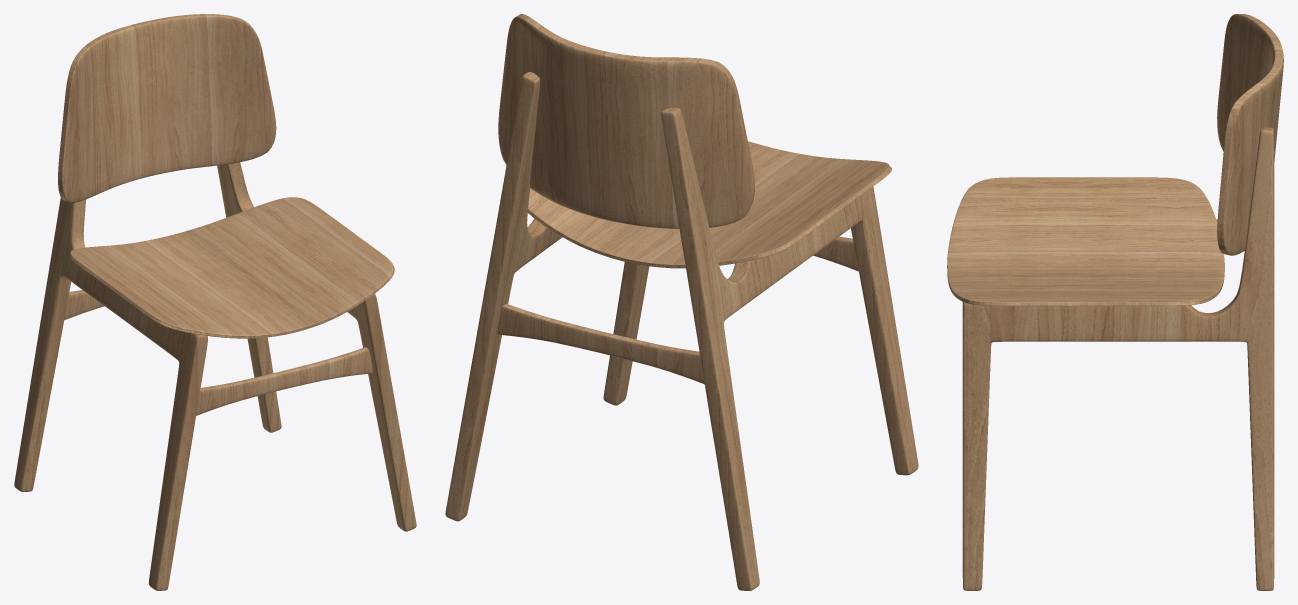
File: chair.glb
3 renders of one model, left to right at view 1: azimuth 30°, elevation 25°; view 2: azimuth 150°, elevation 25°; view 3: azimuth 270°, elevation 25°, orthographic. The views are drawn at different scales.
Visible parts, largest first — view 1: mesh_2_ROOT__组#1__Plane005_Layer0, mesh_7_ROOT__组#1__Plane006_Layer0, mesh_5_ROOT__组#1__Rectangle0_Layer0_206_177_143_ss, mesh_3_ROOT__组#1__Rectangle06_Layer0, mesh_4_ROOT__组#1__Box004_Layer0, mesh_0_ROOT__组#1__Box005_Layer0_206_177_143_ss; view 2: mesh_2_ROOT__组#1__Plane005_Layer0, mesh_5_ROOT__组#1__Rectangle0_Layer0_206_177_143_ss, mesh_7_ROOT__组#1__Plane006_Layer0, mesh_3_ROOT__组#1__Rectangle06_Layer0, mesh_0_ROOT__组#1__Box005_Layer0_206_177_143_ss, mesh_4_ROOT__组#1__Box004_Layer0; view 3: mesh_7_ROOT__组#1__Plane006_Layer0, mesh_3_ROOT__组#1__Rectangle06_Layer0, mesh_2_ROOT__组#1__Plane005_Layer0.
Boxes of the visible parts, bbox=[...] form: mesh_2_ROOT__组#1__Plane005_Layer0: bbox=[58, 14, 276, 202]; mesh_7_ROOT__组#1__Plane006_Layer0: bbox=[69, 197, 394, 338]; mesh_5_ROOT__组#1__Rectangle0_Layer0_206_177_143_ss: bbox=[14, 197, 207, 590]; mesh_3_ROOT__组#1__Rectangle06_Layer0: bbox=[217, 162, 416, 531]; mesh_4_ROOT__组#1__Box004_Layer0: bbox=[196, 347, 372, 415]; mesh_0_ROOT__组#1__Box005_Layer0_206_177_143_ss: bbox=[64, 290, 104, 319]; mesh_2_ROOT__组#1__Plane005_Layer0: bbox=[498, 14, 755, 228]; mesh_5_ROOT__组#1__Rectangle0_Layer0_206_177_143_ss: bbox=[661, 107, 918, 590]; mesh_7_ROOT__组#1__Plane006_Layer0: bbox=[527, 141, 891, 268]; mesh_3_ROOT__组#1__Rectangle06_Layer0: bbox=[445, 72, 649, 521]; mesh_0_ROOT__组#1__Box005_Layer0_206_177_143_ss: bbox=[497, 304, 704, 384]; mesh_4_ROOT__组#1__Box004_Layer0: bbox=[813, 236, 858, 271]; mesh_7_ROOT__组#1__Plane006_Layer0: bbox=[947, 177, 1224, 306]; mesh_3_ROOT__组#1__Rectangle06_Layer0: bbox=[962, 127, 1274, 590]; mesh_2_ROOT__组#1__Plane005_Layer0: bbox=[1217, 14, 1283, 255].
Size of the model in its own units: 497 by 787 by 511.
Materials: 3 (2 with a texture image).
